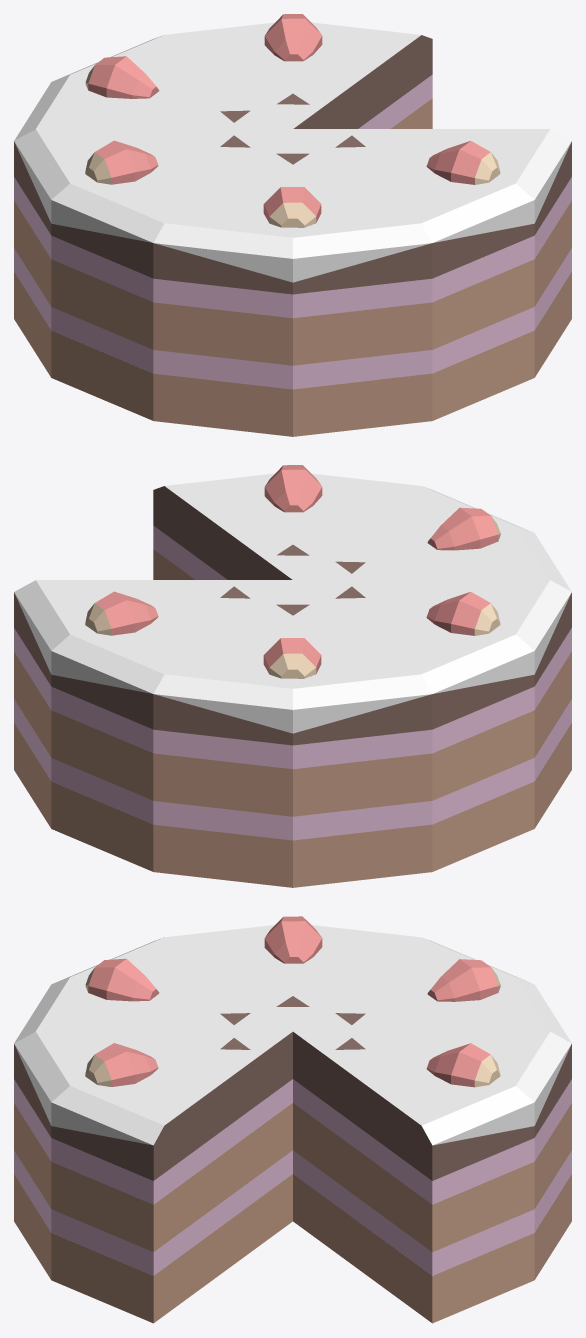
File: cake.fbx
3 renders of one model, top to bottom at view 1: azimuth 30°, elevation 25°; view 2: azimuth 150°, elevation 25°; view 3: azimuth 270°, elevation 25°, orthographic.
Parts seen in each view (by area): view 1: cake; view 2: cake; view 3: cake.
Part boxes in pixels (bbox=[...]): cake: bbox=[14, 14, 571, 436]; cake: bbox=[14, 465, 571, 887]; cake: bbox=[14, 916, 571, 1323].
Bounding box in the file's own units: 0.5965 × 0.2731 × 0.6392.
